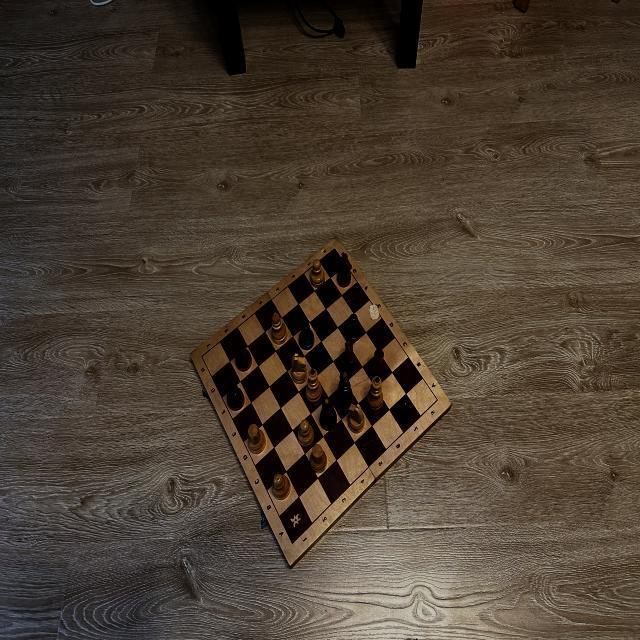chess-table-corners: (434, 396, 440, 404), (290, 541, 295, 547), (333, 246, 336, 251), (200, 355, 203, 358)
